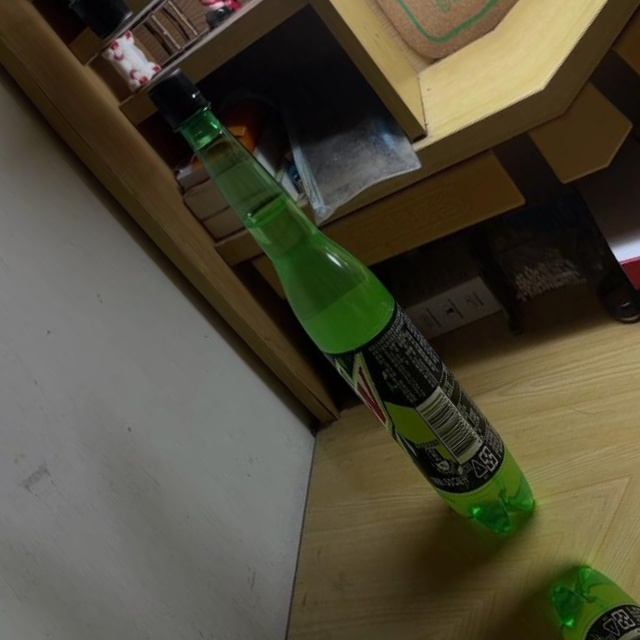Mountain-Dew: (118, 55, 560, 558)
